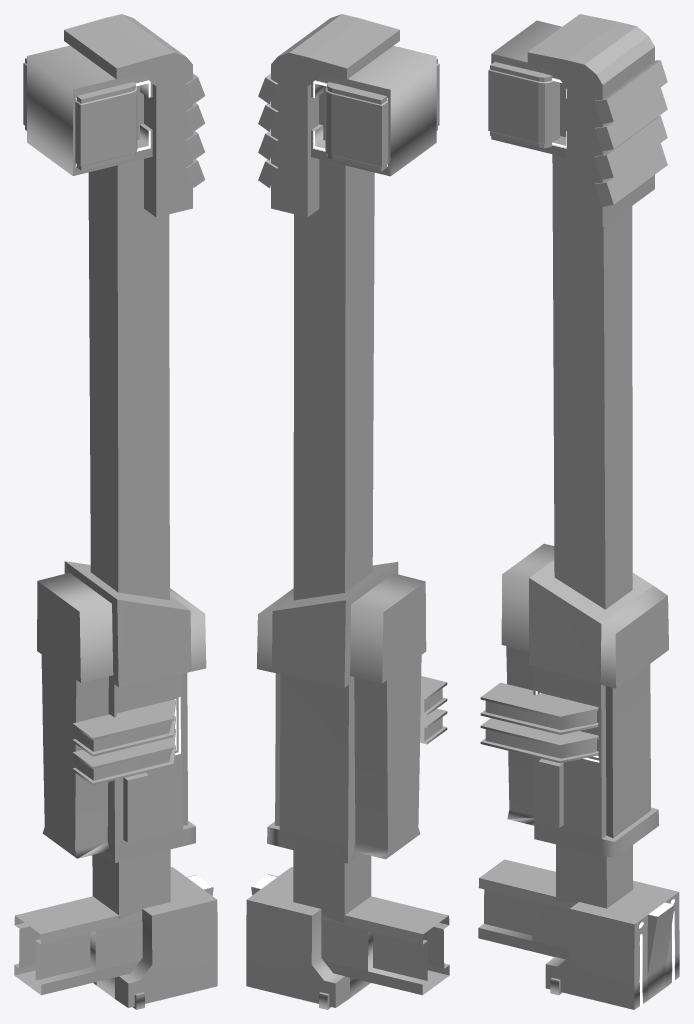
File: KF_SM_Beam.fbx
3 views of the same model, side by side, from view 1: azimuth 30°, elevation 25°; view 2: azimuth 150°, elevation 25°; view 3: azimuth 330°, elevation 25° (orthographic).
Visible parts, largest first — view 1: KF_SM_Beam; view 2: KF_SM_Beam; view 3: KF_SM_Beam.
Part boxes in pixels (x1,y1,x2,y2): KF_SM_Beam: (14,14,217,1009); KF_SM_Beam: (246,14,449,1009); KF_SM_Beam: (478,14,679,1009).
Bounding box in the file's own units: 425 × 2180 × 282.
